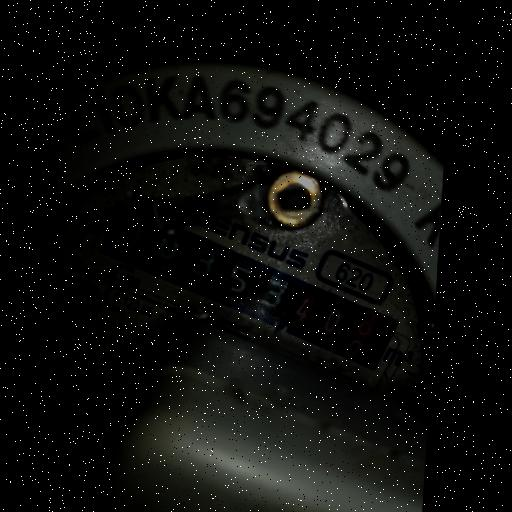0: (110, 210, 159, 264), (147, 226, 190, 277), (314, 297, 354, 348)
3: (178, 238, 226, 292), (251, 268, 295, 321)
4: (286, 286, 321, 333)
5: (216, 254, 258, 307)
8: (340, 304, 391, 371)
border_water_meter_number: (88, 199, 404, 380)
